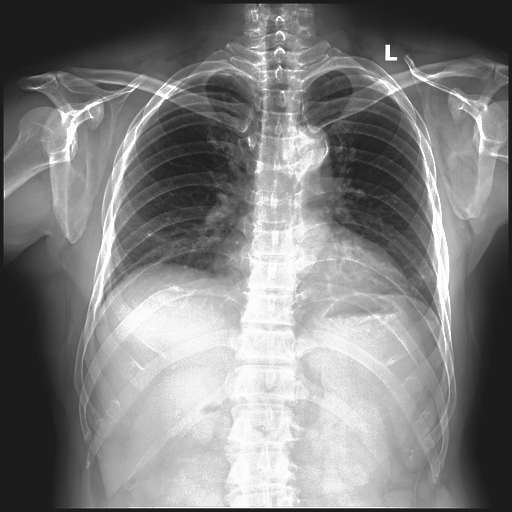Consolidation: (281, 122, 336, 183)
Nodule/Mass: (208, 232, 410, 300)
